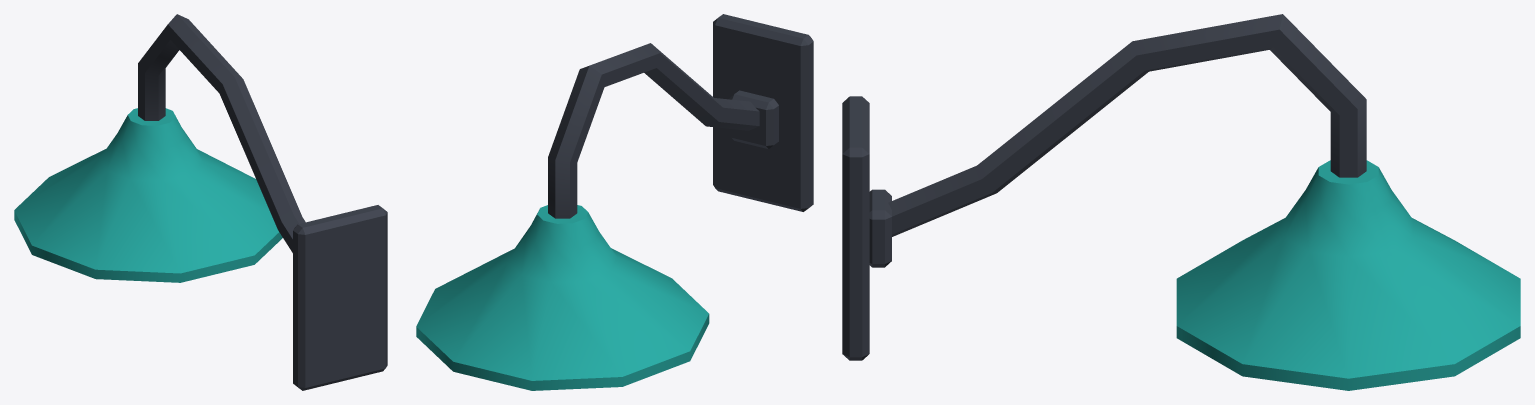
The model's file is wall_lamp.glb.
3 views of the same model, side by side, from view 1: azimuth 30°, elevation 25°; view 2: azimuth 150°, elevation 25°; view 3: azimuth 270°, elevation 25° (orthographic). The views are drawn at different scales.
Parts seen in each view (by area): view 1: wall_lamp; view 2: wall_lamp; view 3: wall_lamp.
Boxes of the visible parts, <box> form: wall_lamp: <box>14,14,387,390</box>; wall_lamp: <box>416,14,813,390</box>; wall_lamp: <box>842,14,1520,390</box>.
Size of the model in its own units: 0.4 by 0.4219 by 0.7502.
